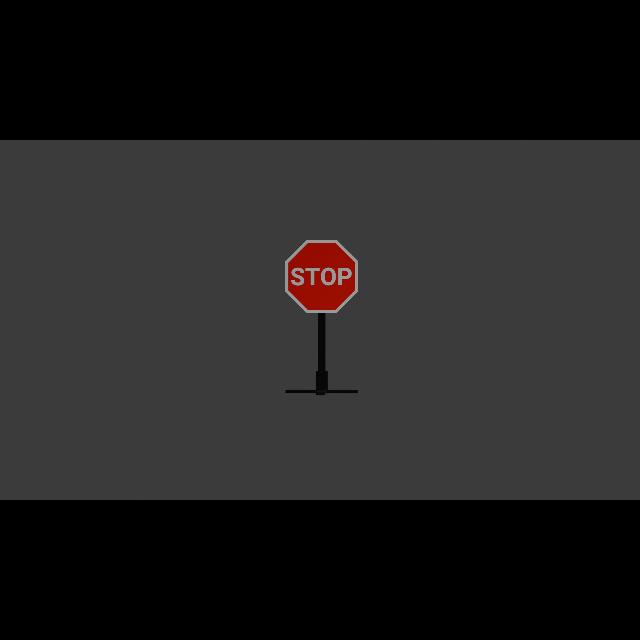sign_stop: (285, 240, 359, 314)
